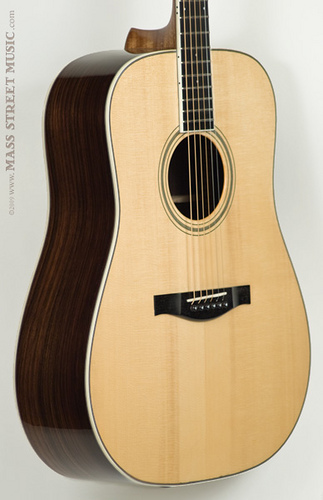guitar: (15, 1, 312, 489)
